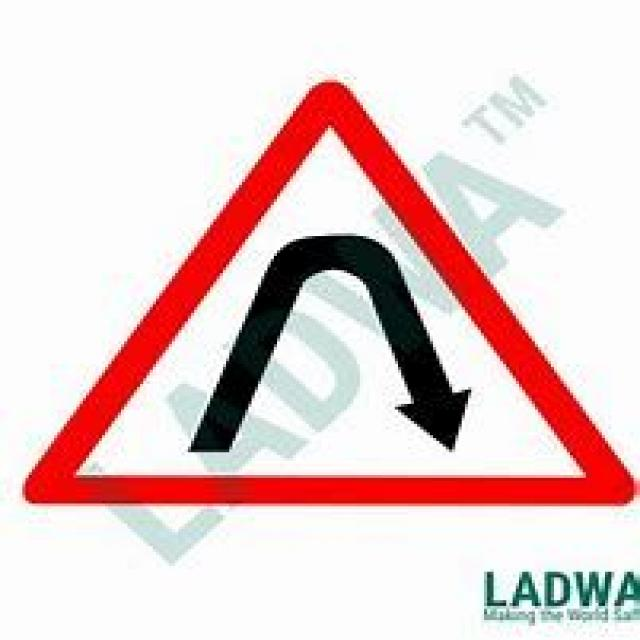RIGHT_HAIR_PIN_BEND: (16, 74, 637, 506)
